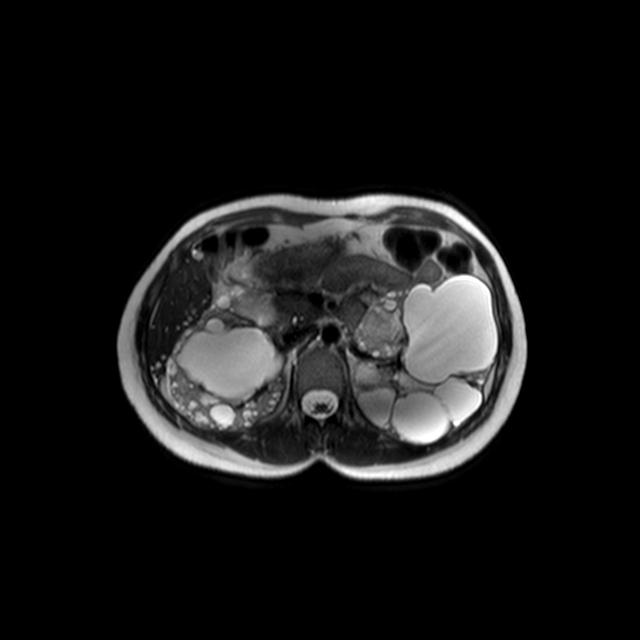sag: (160, 283, 286, 433)
sol: (347, 275, 498, 445)
